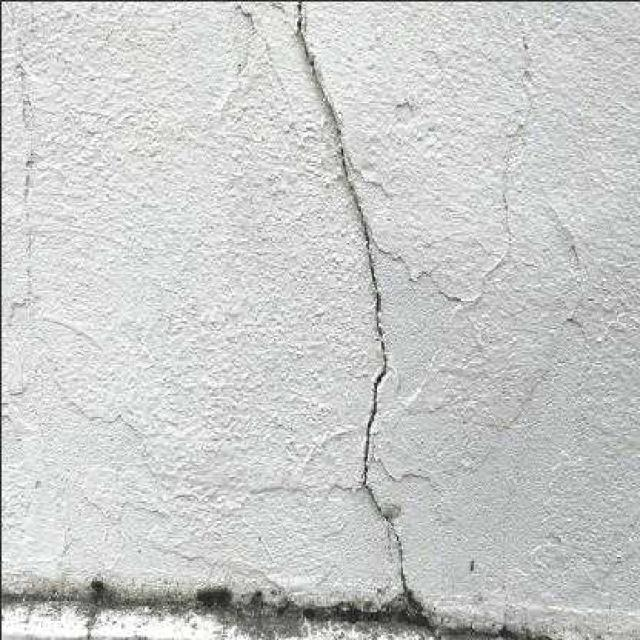D00: (291, 0, 430, 623)
